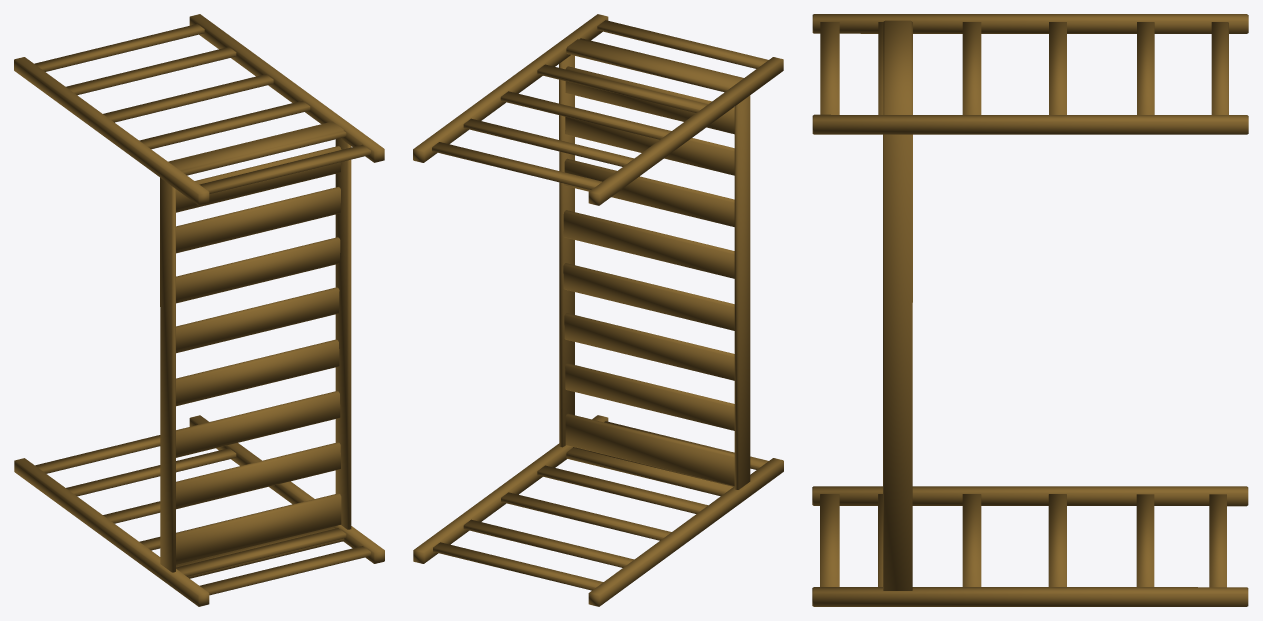
Rendered from MeshBed_18_1_0.obj.
The picture shows the model from 3 angles, left to right: view 1: azimuth 30°, elevation 25°; view 2: azimuth 150°, elevation 25°; view 3: azimuth 270°, elevation 25°; orthographic projection. The views are drawn at different scales.
Visible parts, largest first — view 1: Bed_18_1; view 2: Bed_18_1; view 3: Bed_18_1.
Boxes of the visible parts, x1,y1,x2,y2 form: Bed_18_1: [14, 14, 384, 606]; Bed_18_1: [413, 14, 783, 606]; Bed_18_1: [812, 14, 1248, 606].
Bounding box in the file's own units: 1.15 × 2.43 × 1.97.
